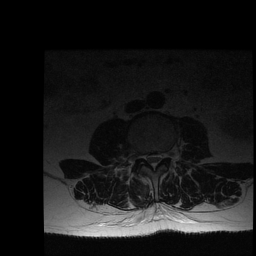CCS_normal: (150, 147, 156, 174)
LFS_normal: (162, 144, 169, 164)
LLS_normal: (156, 146, 163, 167)
RFS_stenosis: (138, 145, 144, 164)
RLS_normal: (144, 146, 150, 168)
